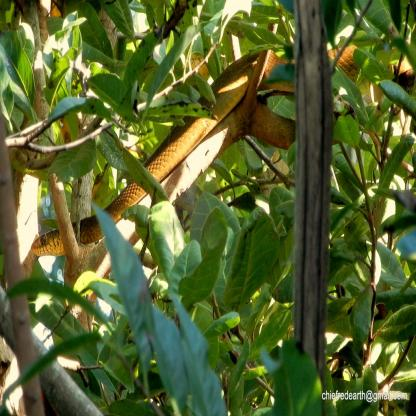Snake: (28, 208, 110, 259)
